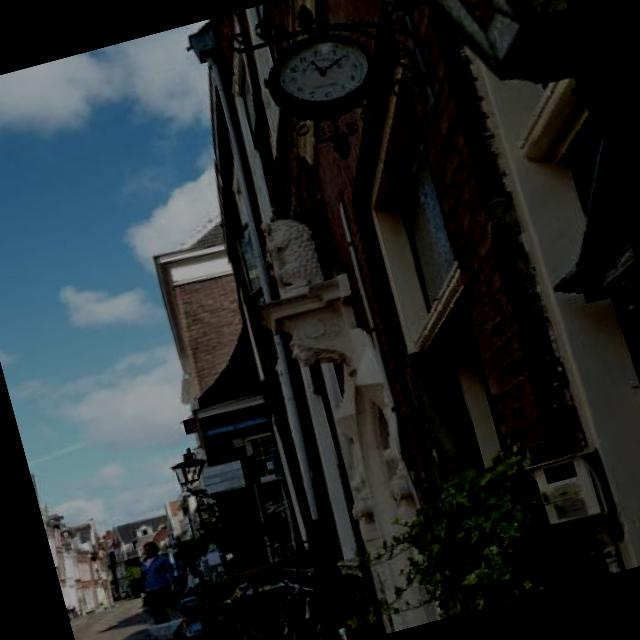Person: (126, 536, 186, 626), (175, 542, 212, 588), (196, 536, 227, 560)
